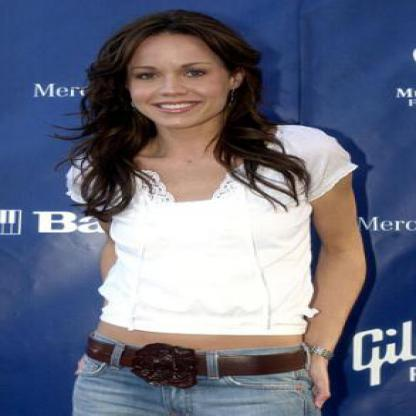face: (124, 24, 234, 129)
